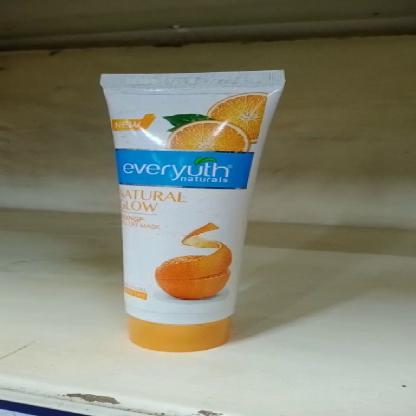EY NAT GLOW ORANGE PEEL OFF AY 90G: (104, 70, 284, 354)
